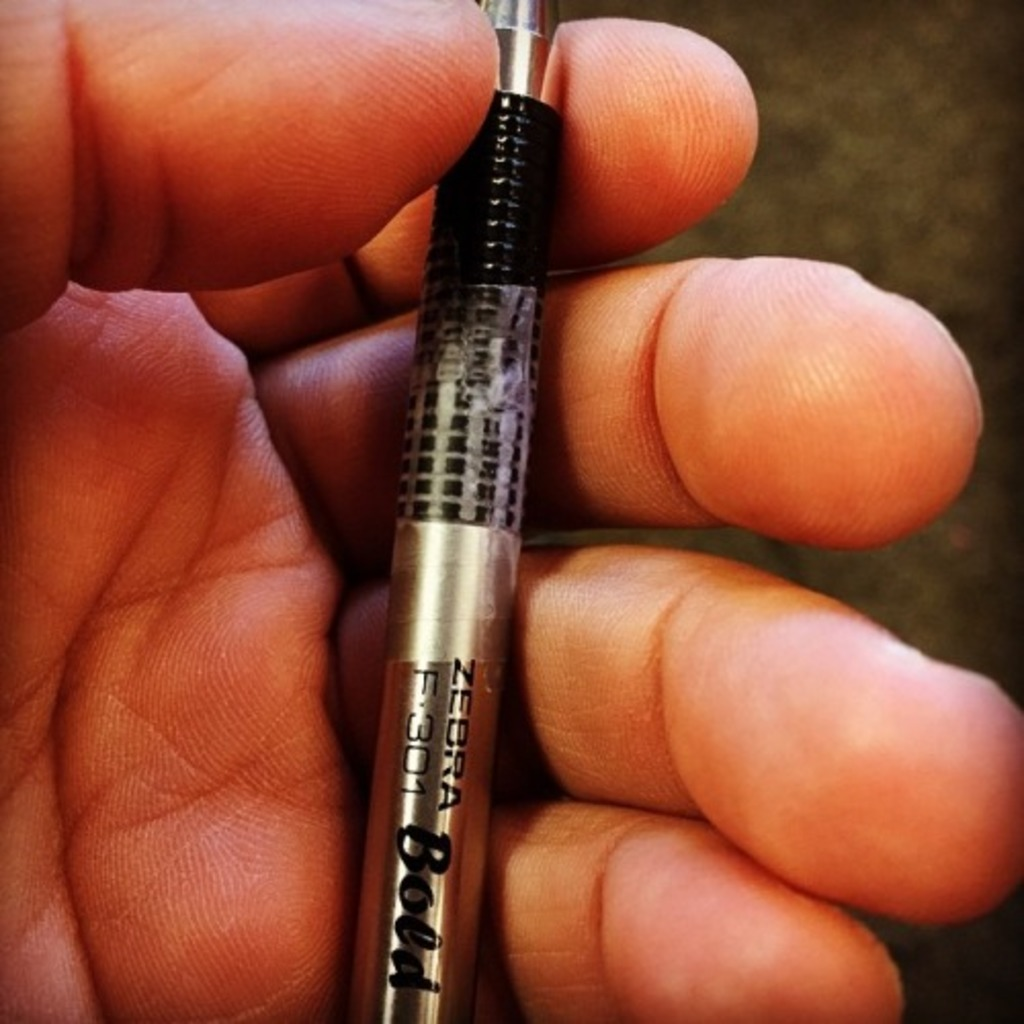Pen: (315, 0, 604, 1024)
